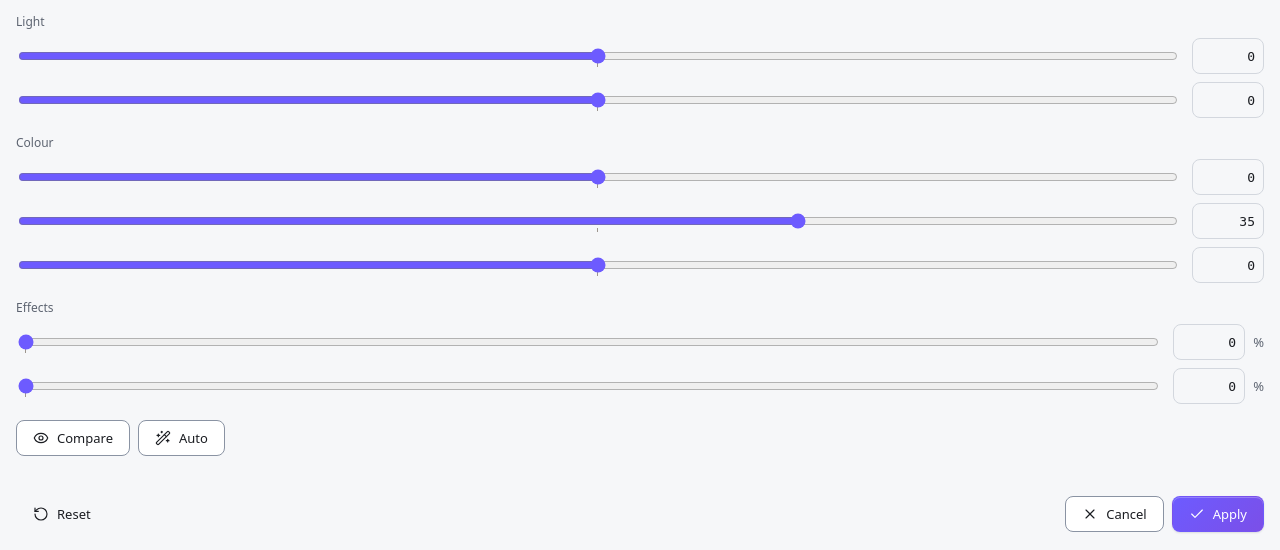
Test case: AdjustControls (SCR-03) › footer (AC-09, AC-10) › shows every slider and field at 0 after Reset (AC-10)
Set the slider named "Brightness" to "42". click: (838, 56)
box: [18, 45, 1178, 67]
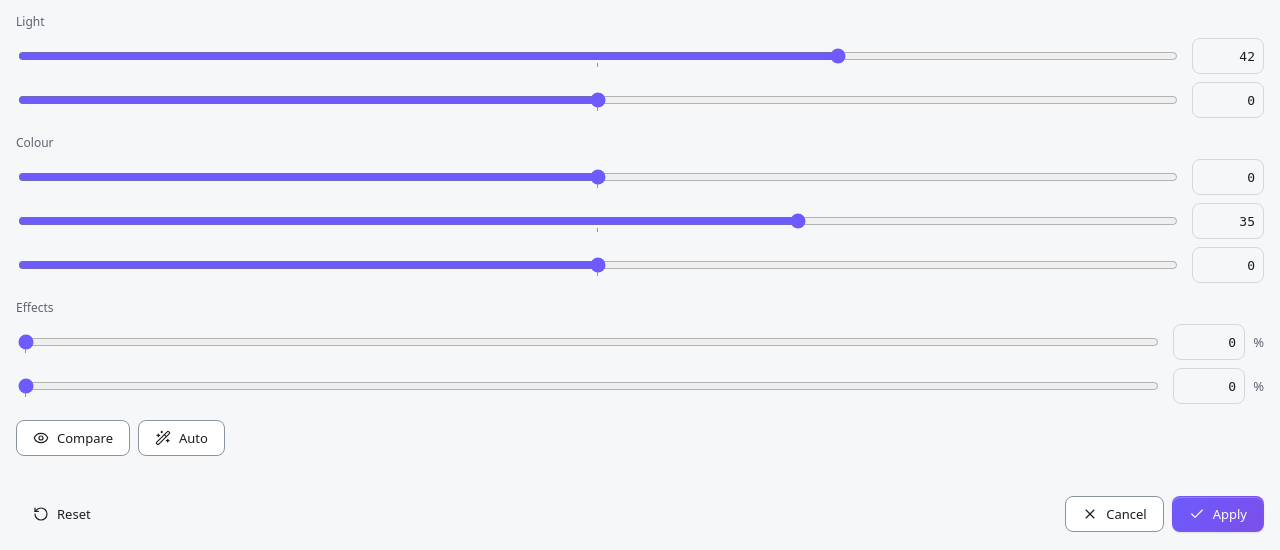
Set the slider named "Sepia" to "30". click: (364, 386)
box: [18, 375, 1159, 397]
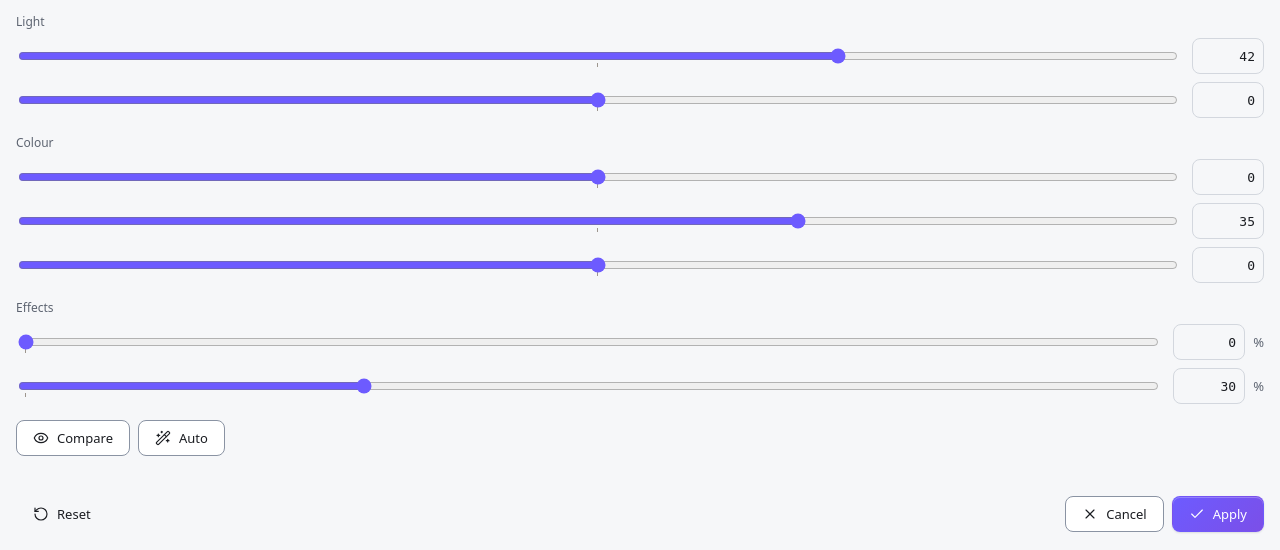
Click the button "Reset". click: (62, 514)
box: [16, 496, 108, 532]
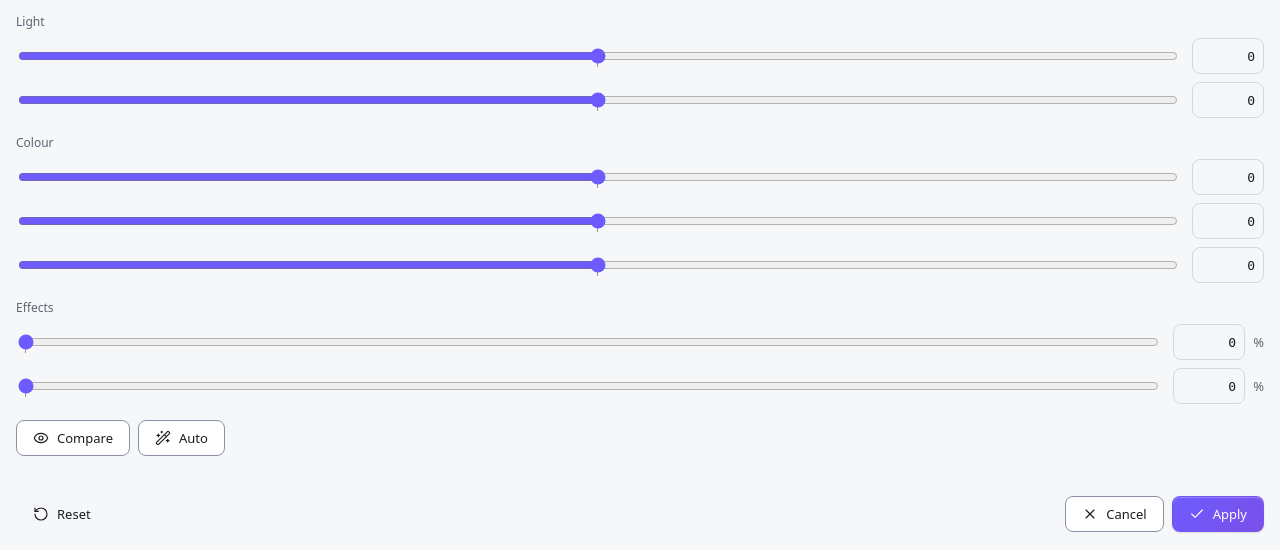
Expected: the 1st field holds "0", [1192, 38, 1264, 74]
Expected: the 4th field holds "0", [1192, 203, 1264, 239]
Expected: the 7th field holds "0", [1173, 368, 1245, 404]
